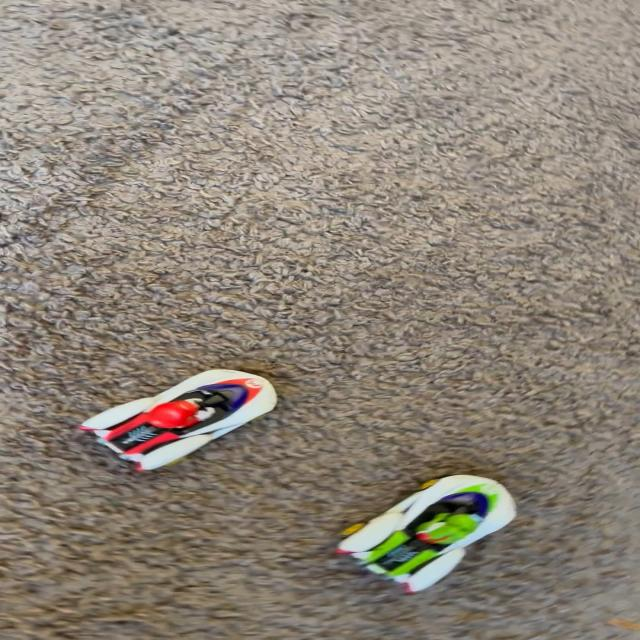mario: (64, 358, 296, 486)
yoshi: (322, 463, 539, 611)
